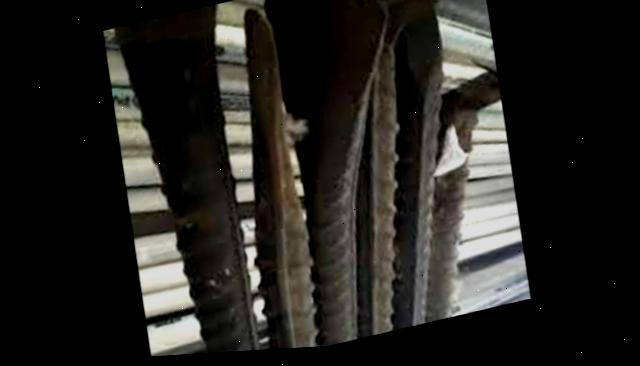crow bar: (255, 0, 472, 354), (105, 3, 277, 361), (196, 0, 337, 356)
